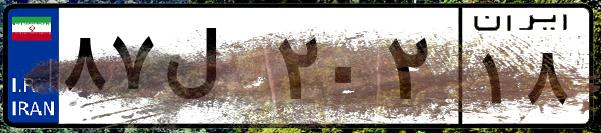0: (330, 28, 385, 110)
1: (475, 38, 525, 113)
2: (270, 28, 330, 110), (385, 28, 445, 110)
7: (110, 28, 158, 98)
8: (57, 26, 110, 100), (525, 38, 570, 115)
ل: (158, 20, 270, 120)
